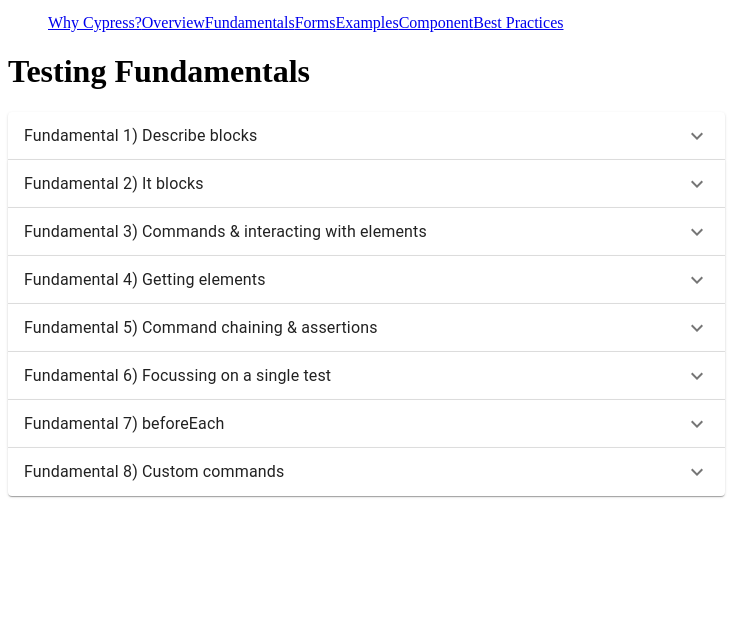
Fundamentals test › Accordion works correctly
Expected: the text "Your tests will exist in a describe block." is not shown
Click the button with test id "accordion-item-1" at [141, 135], box [24, 124, 709, 148]
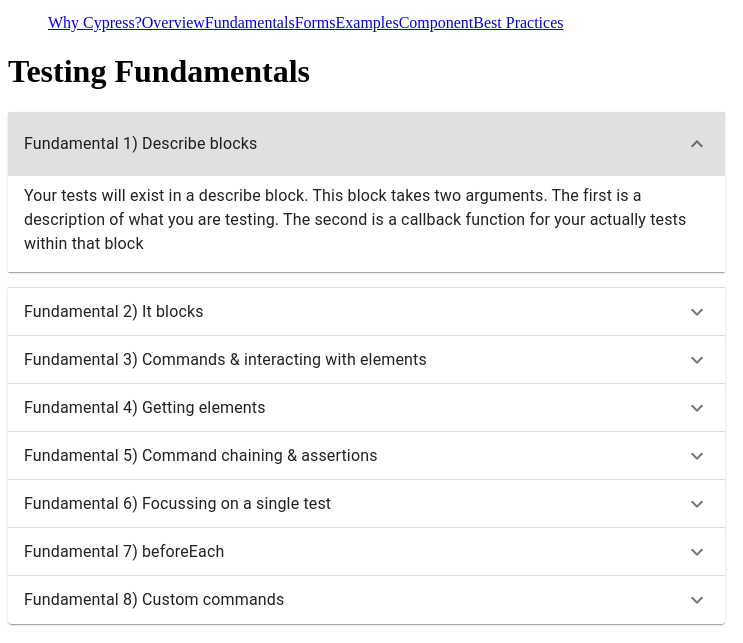
Expected: the text "Your tests will exist in a describe block" is shown, [24, 184, 709, 256]
Click the button with test id "accordion-item-1" at [141, 143], box [8, 112, 725, 176]
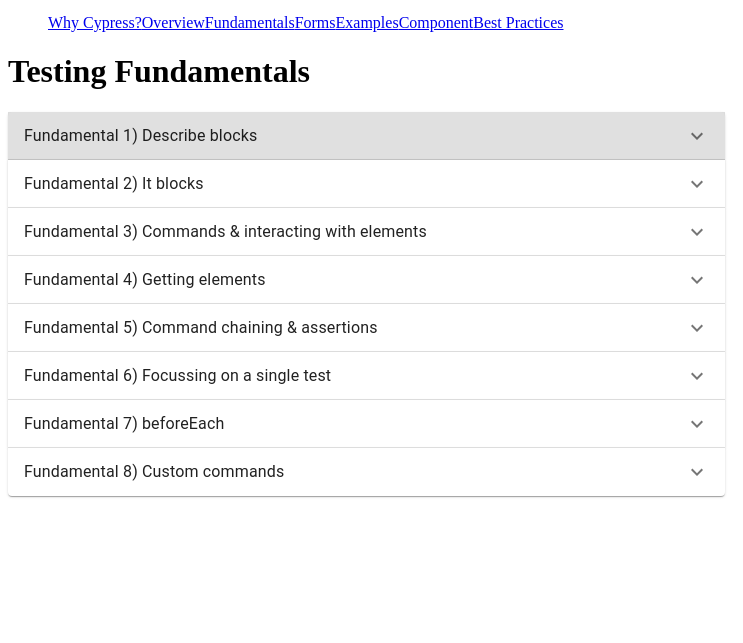
Expected: the text "Your tests will exist in a describe block" is gone
